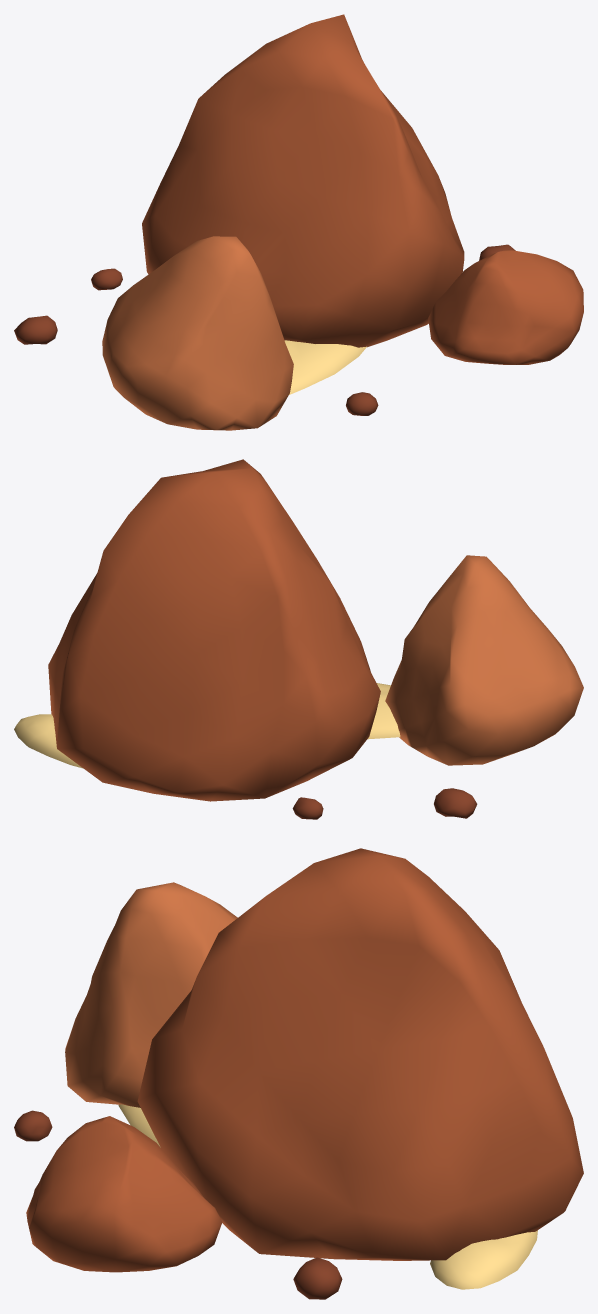
The model's file is detail_desert_boulders.glb.
The picture shows the model from 3 angles, top to bottom: view 1: azimuth 30°, elevation 25°; view 2: azimuth 150°, elevation 25°; view 3: azimuth 270°, elevation 25°; orthographic projection. The views are drawn at different scales.
Visible parts, largest first — view 1: stone, plaster; view 2: stone, plaster; view 3: stone, plaster.
Part boxes in pixels (x1,y1,x2,y2): stone: [14, 14, 583, 430]; plaster: [284, 340, 366, 394]; stone: [48, 459, 583, 819]; plaster: [14, 683, 400, 768]; stone: [14, 848, 583, 1299]; plaster: [118, 1104, 537, 1289].
Size of the model in its own units: 1.4 by 0.8 by 1.2.
